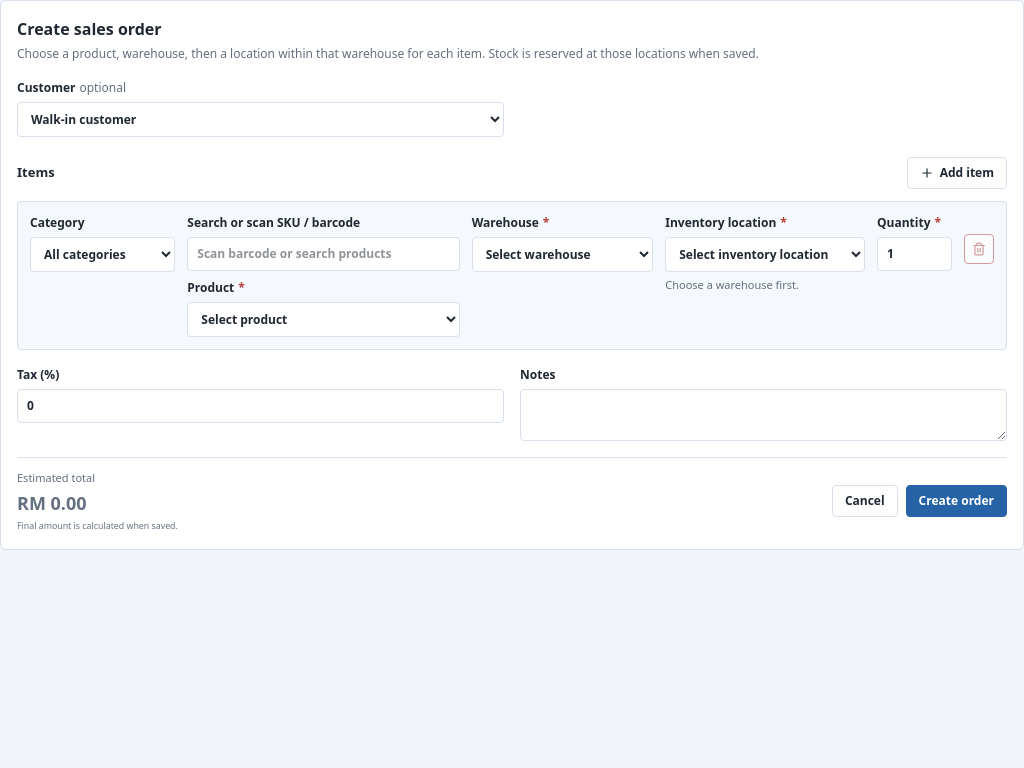
Test case: sales line category filters › resets product, location, serial and price when changing category without affecting another line
Select "NB-1 — Notebook (RM 500.00)" in the dropdown labelled "Product *" at [324, 320], box [187,302,460,337]
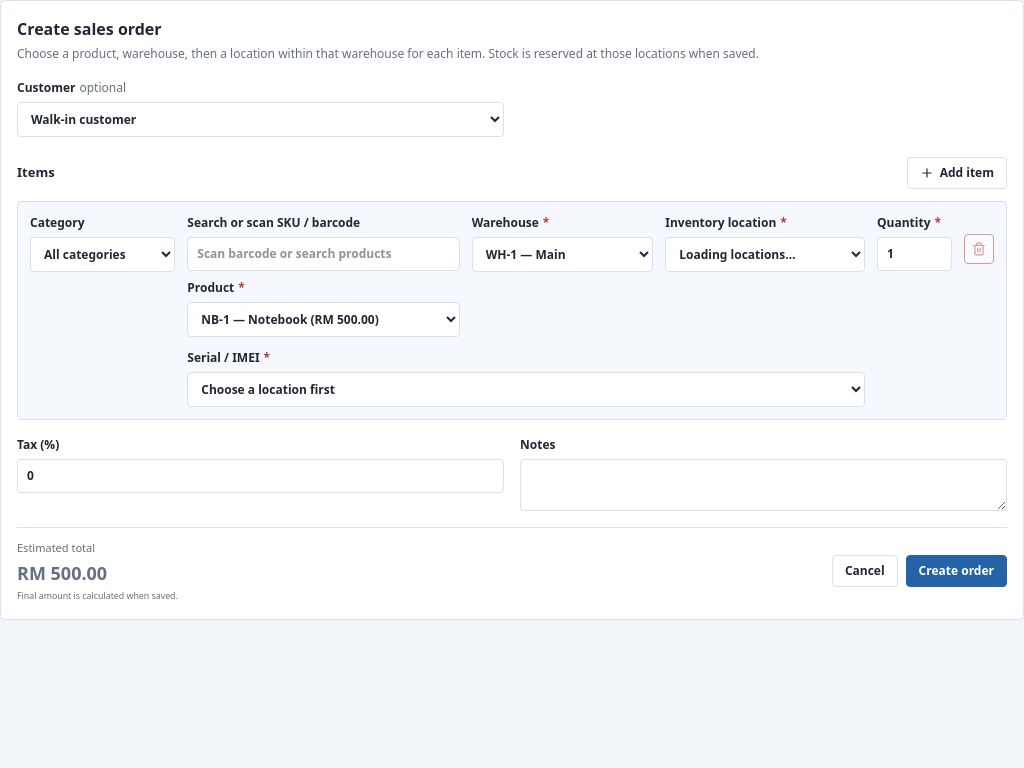
Select "WH-1 — Main" in the dropdown labelled "Warehouse *" at [562, 254], box [472,237,653,272]
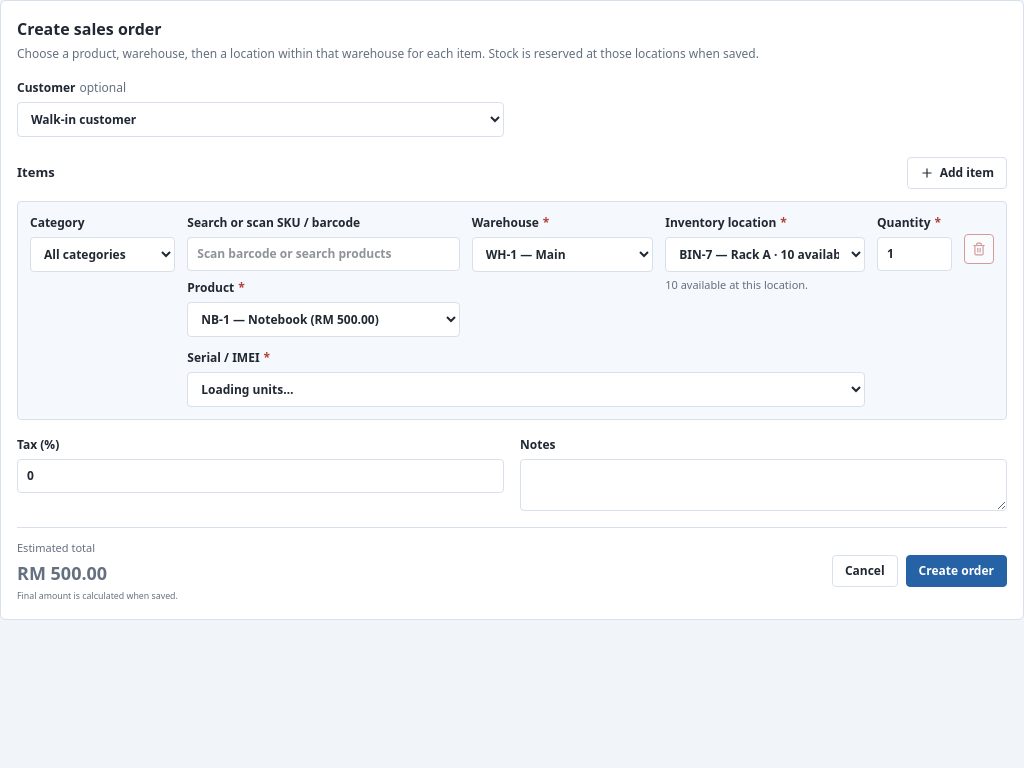
Select "BIN-7 — Rack A · 10 available" in the dropdown labelled "Inventory location * 10 available at this location." at [765, 254], box [665,237,865,272]
Select "SN-1" in the dropdown labelled "Serial / IMEI *" at [526, 390], box [187,372,865,407]
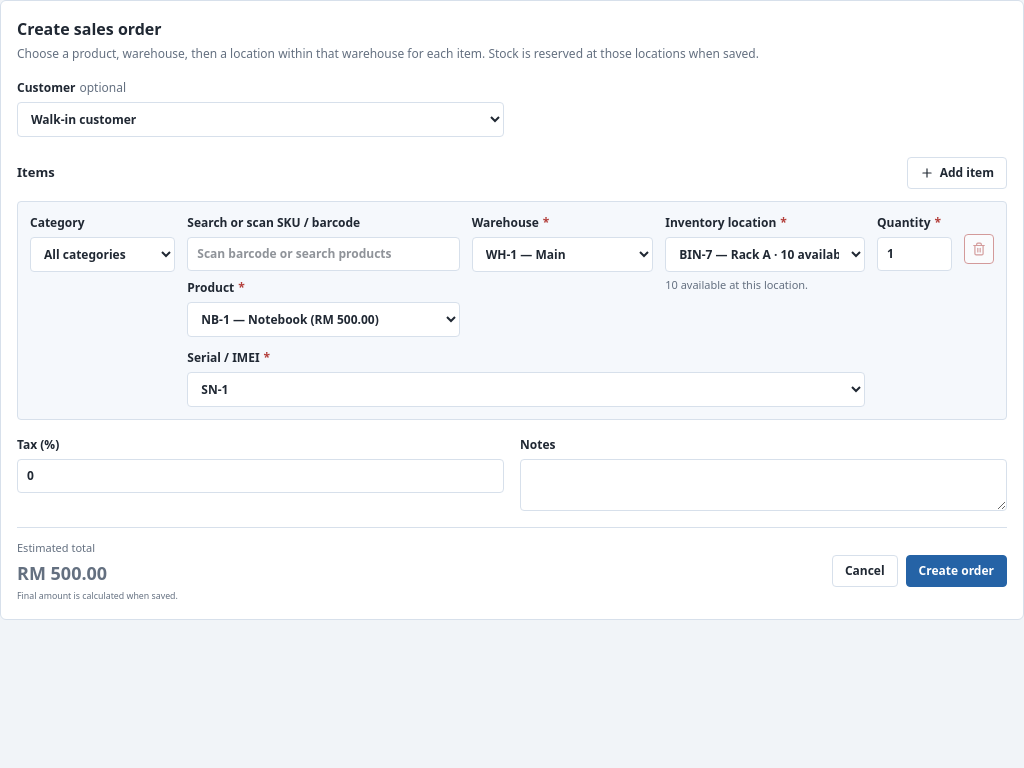
Click the button "Add item" at [957, 173], box [907,157,1007,189]
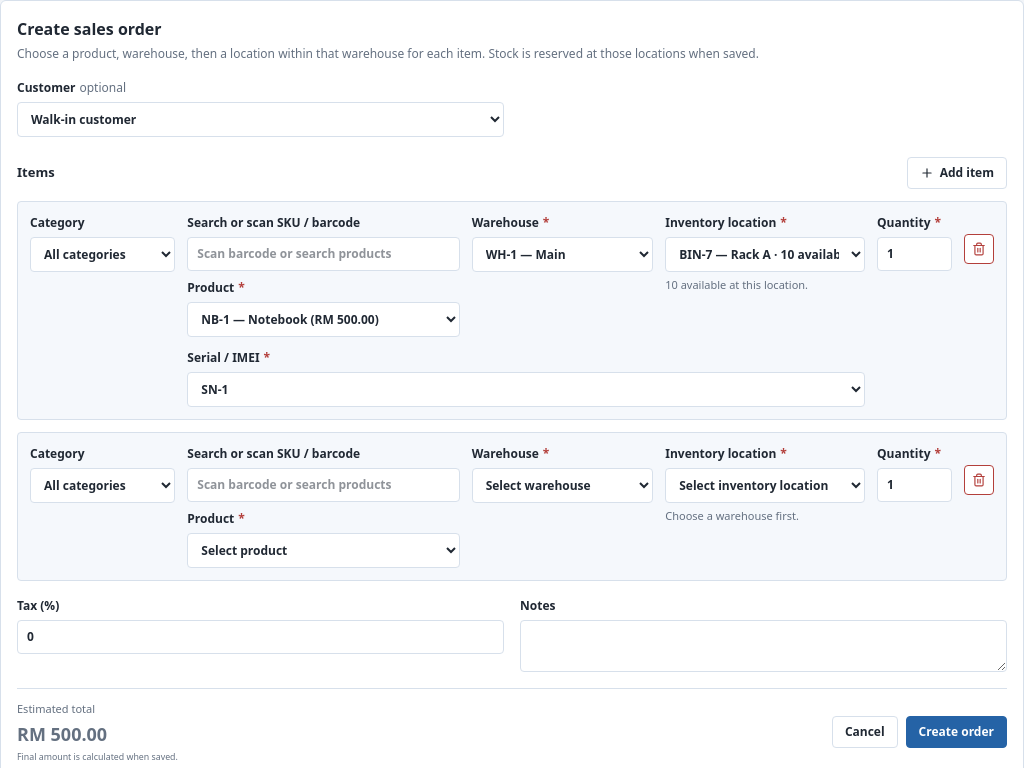
Select "CPU-1 — CPU (RM 100.00)" in the dropdown labelled "Product *" below "Choose a warehouse first." at [324, 550], box [187,533,460,568]
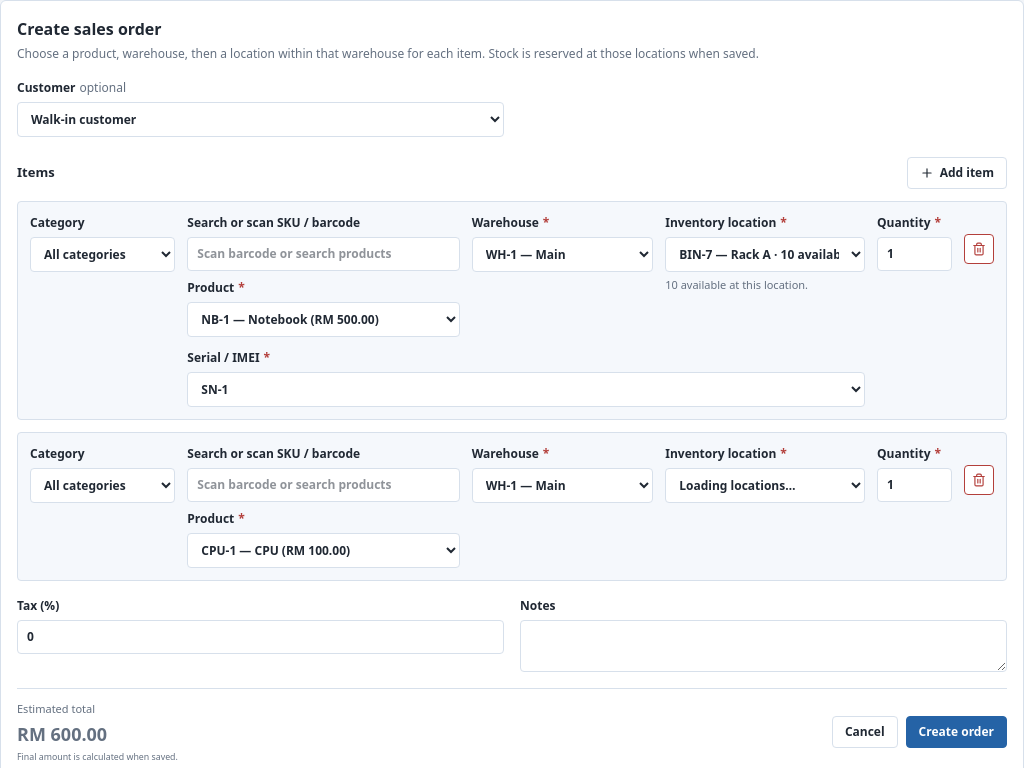
Select "Components / CPUs" in the 1st dropdown labelled "Category" at [103, 254], box [30,237,175,272]
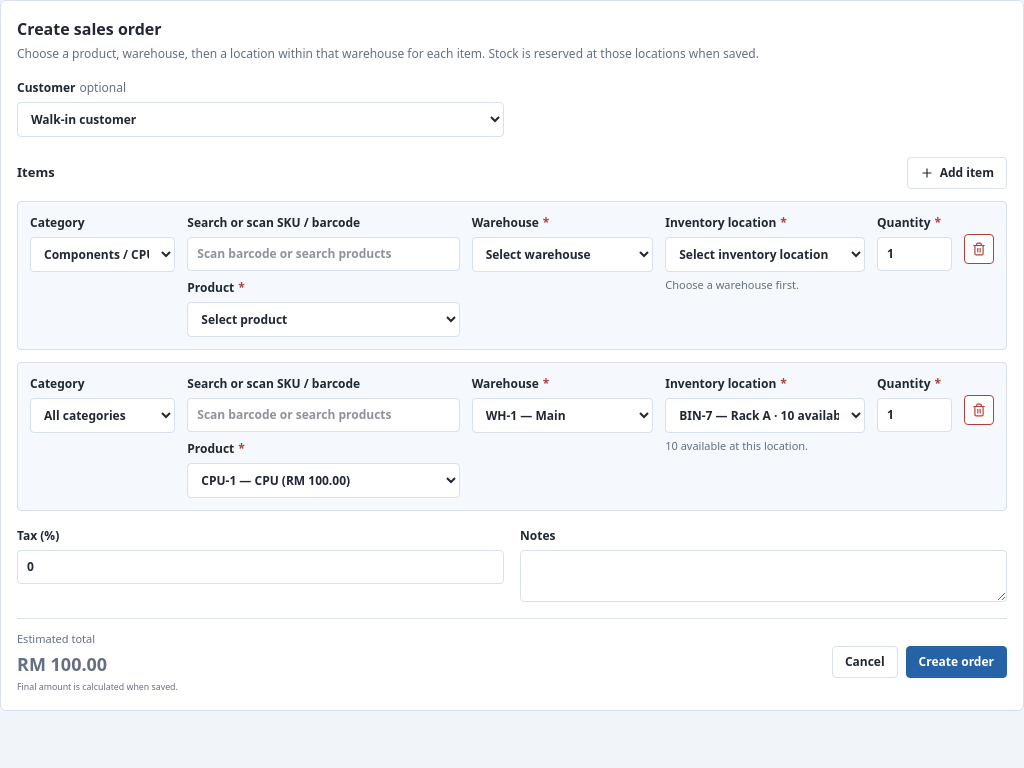
Now the field labelled "Serial" is gone
Now the text "RM 100.00" is shown, box [17,652,107,676]
